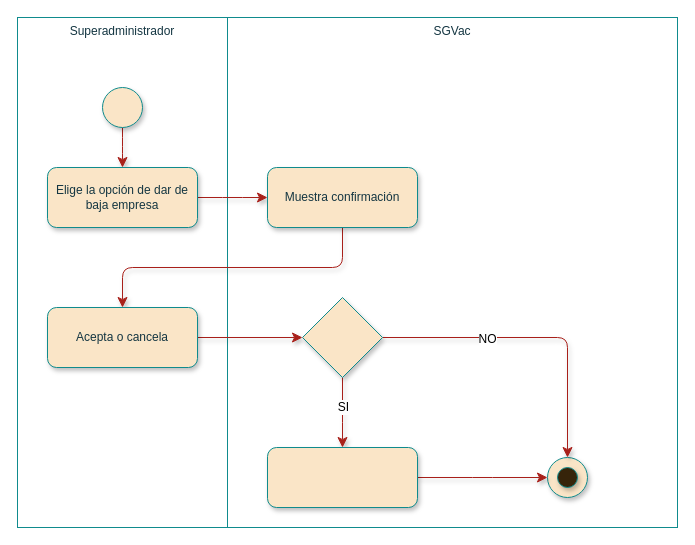
Image size: 695x545. Some labels were removed from this diagram. Each missing label, with the centre of its shape:
"Confirma?" goes at point 343,338.
"Da de baja empresa" goes at point 343,478.
